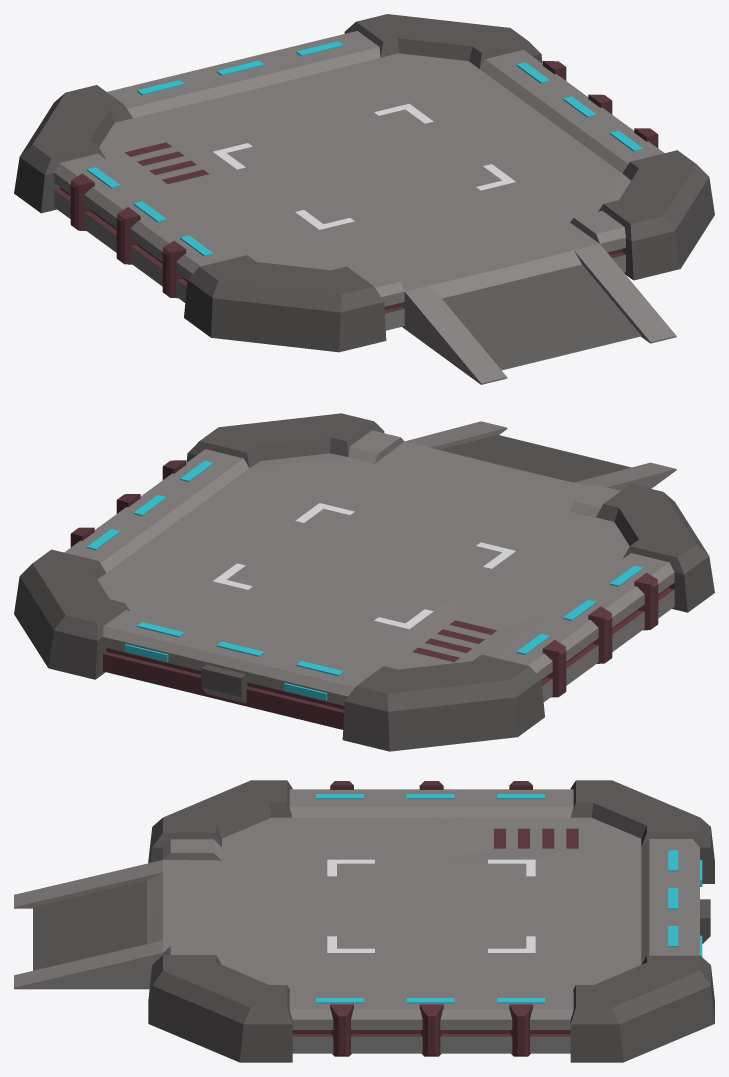
File: scifi-helipad.fbx
The picture shows the model from 3 angles, top to bottom: view 1: azimuth 30°, elevation 25°; view 2: azimuth 150°, elevation 25°; view 3: azimuth 270°, elevation 25°; orthographic projection. The views are drawn at different scales.
Visible parts, largest first — view 1: scifi-helipad; view 2: scifi-helipad; view 3: scifi-helipad.
Part boxes in pixels (x1=…): scifi-helipad: x1=14, y1=14, x2=714, y2=384; scifi-helipad: x1=14, y1=413, x2=714, y2=751; scifi-helipad: x1=14, y1=780, x2=714, y2=1062.
Bounding box in the file's own units: 19 × 1.8 × 23.5.
